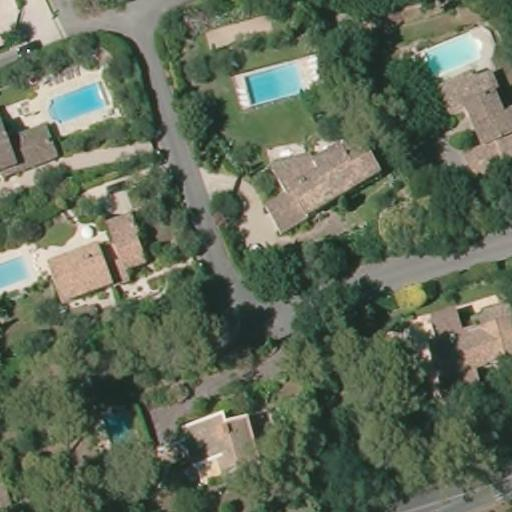pool: (35, 78, 113, 124), (232, 62, 314, 105), (411, 33, 483, 80), (0, 252, 35, 294)
